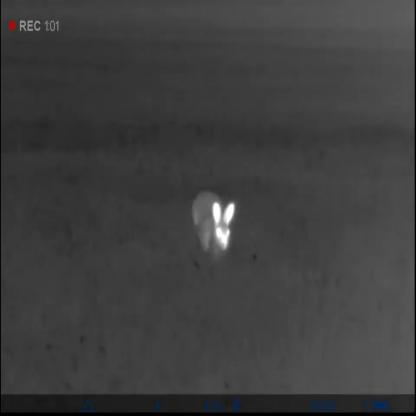rehkitze: (186, 187, 237, 257)
